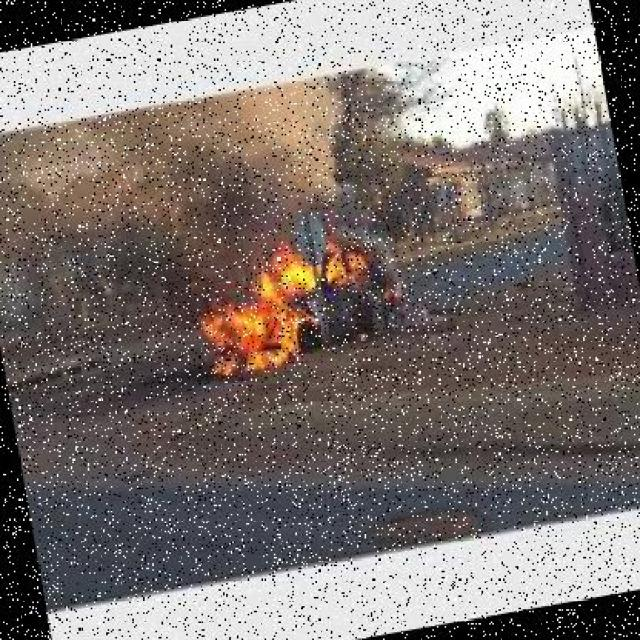fire: (177, 218, 392, 391)
